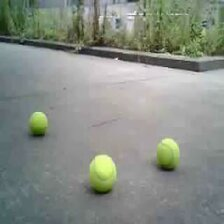tennis: (90, 155, 115, 191), (156, 139, 180, 168), (28, 111, 49, 133)
